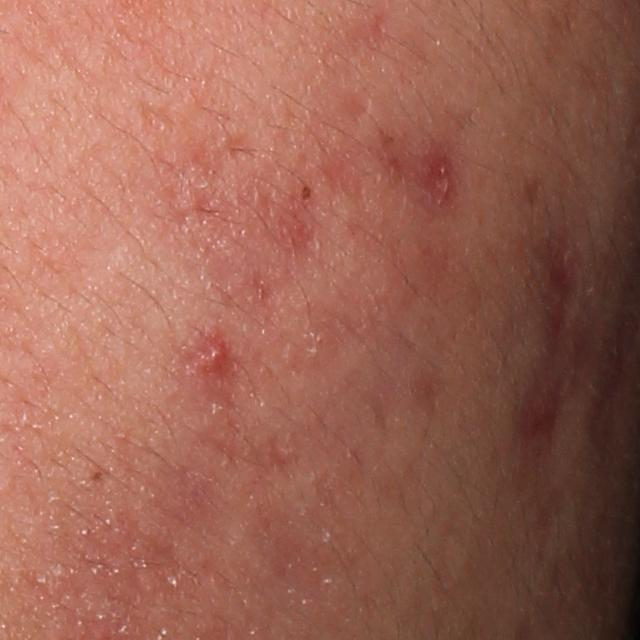atrophic_scar: (511, 345, 576, 468), (403, 128, 463, 228), (321, 155, 371, 200), (129, 98, 181, 135), (217, 129, 264, 166)
nevus: (302, 183, 313, 202)
papule: (199, 335, 237, 381)
